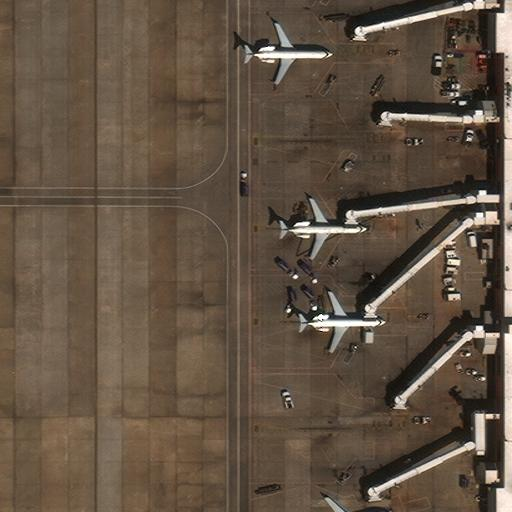Medium Civil Transport: (245, 23, 333, 84), (299, 291, 385, 353), (280, 198, 367, 259)
